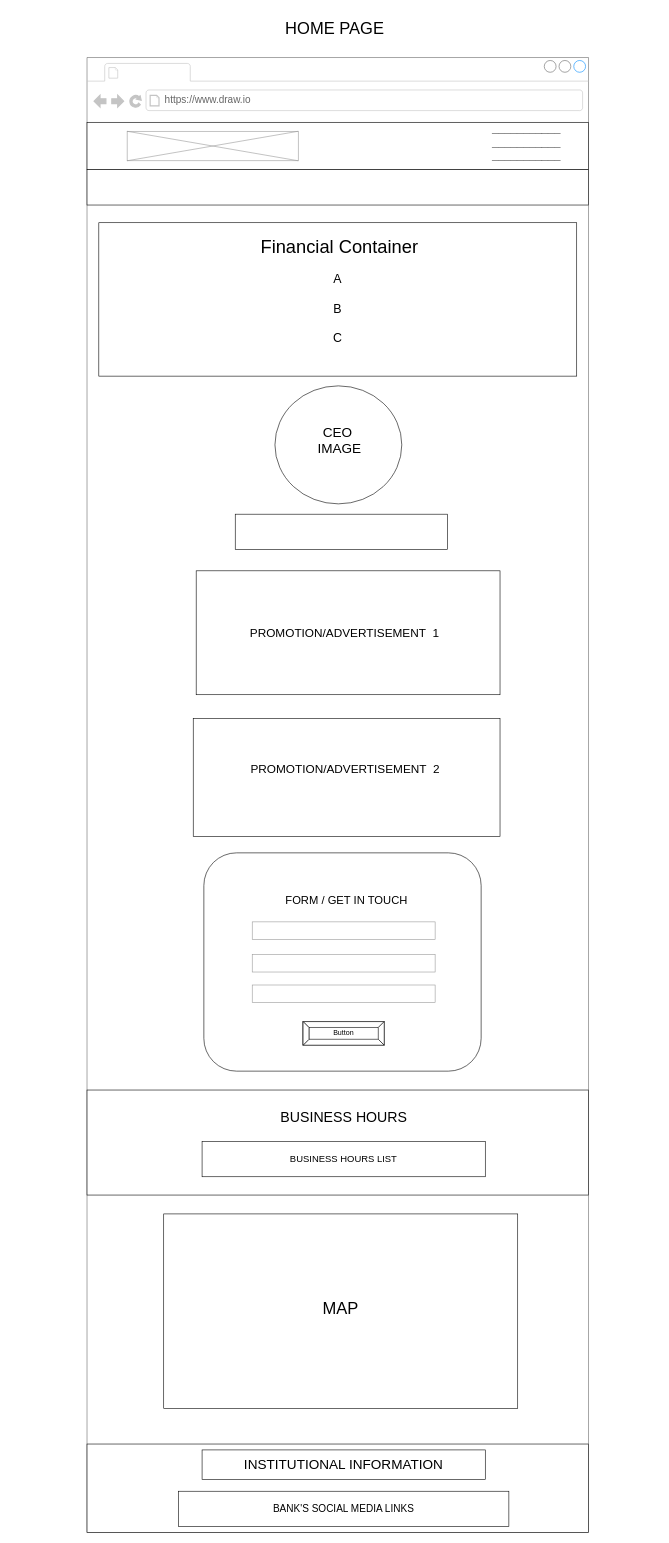
Some shapes in this 669 by 1543 pixel diagram are drawn without their labels. The box of each missing label's shape, as (x1, y1, x2, y2) in pixels:
CEO's ADDRESS: (235, 514, 448, 550)
LOGO: (127, 131, 298, 161)
Page 1: (122, 64, 187, 80)
REQUEST LINK: (86, 169, 589, 205)
